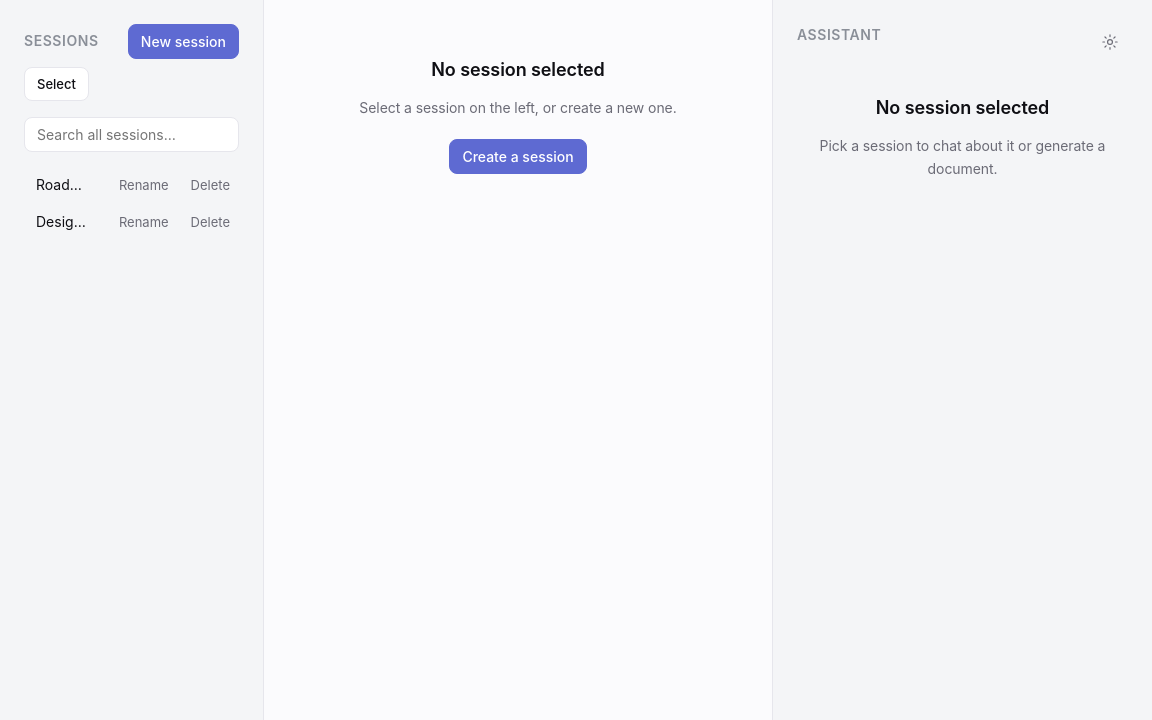
Test: App › shows the selected session in the canvas
Click the button "Roadmap": coordinates (63, 184) [24,168,102,201]
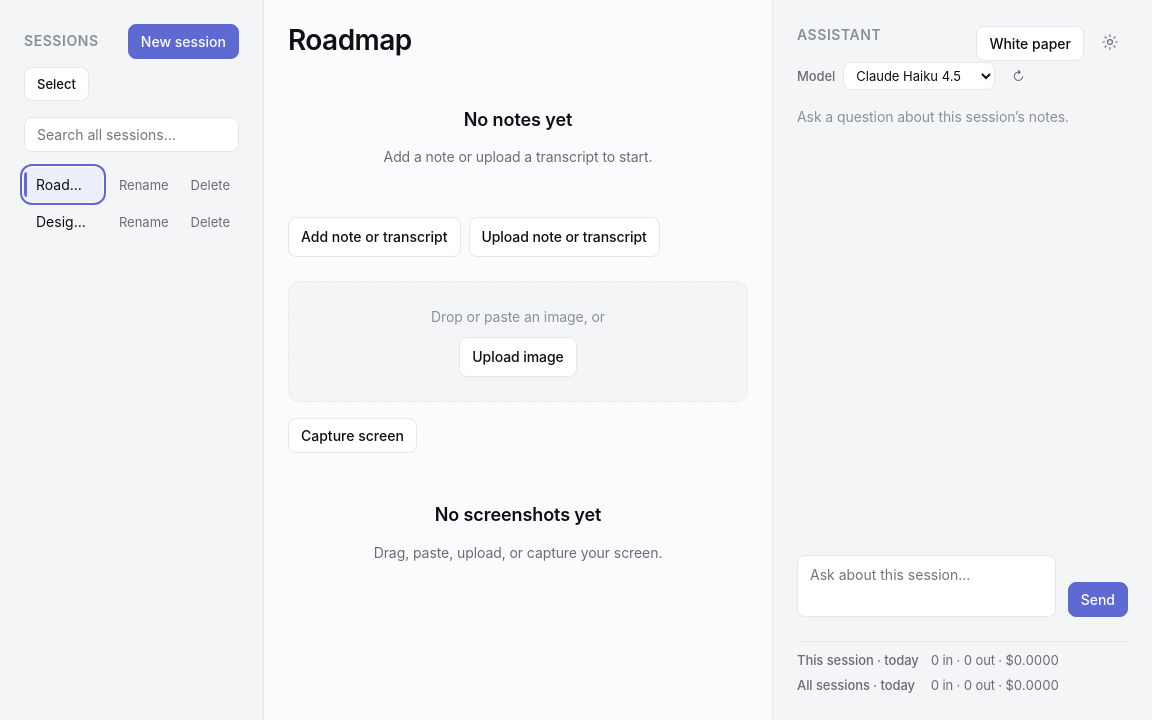
Check: the heading "Roadmap" is shown, box [288,23,412,57]
